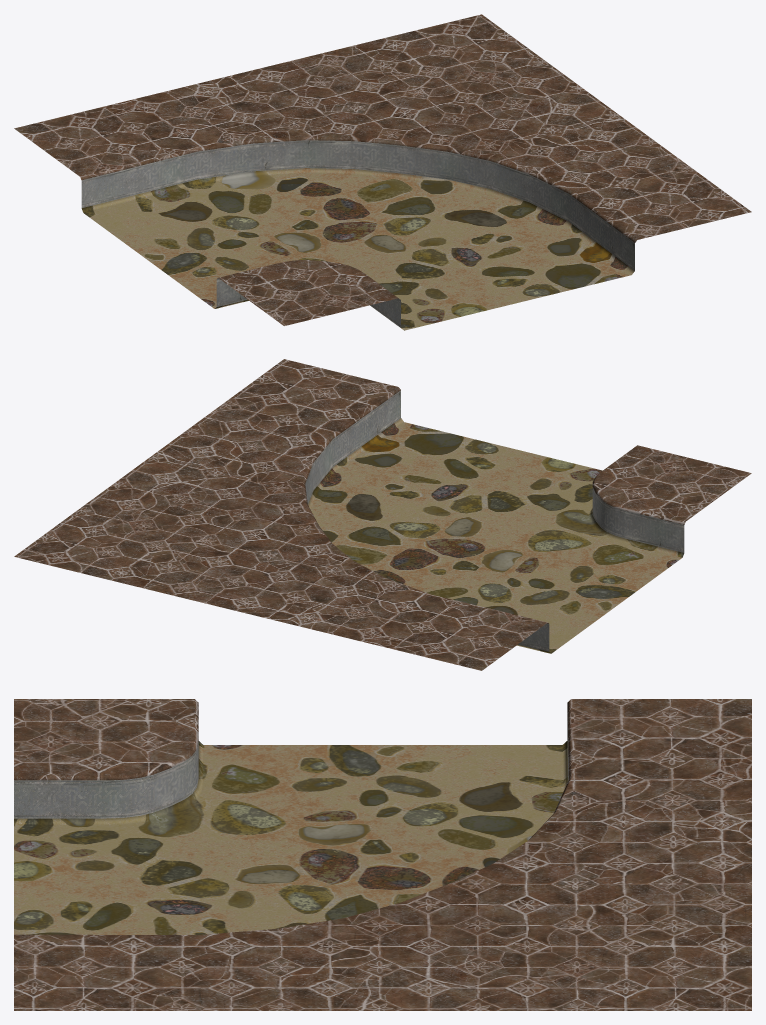
The model's file is FBX_Floor_Sunk_Corner.fbx.
3 renders of one model, top to bottom at view 1: azimuth 30°, elevation 25°; view 2: azimuth 150°, elevation 25°; view 3: azimuth 270°, elevation 25°, orthographic. The views are drawn at different scales.
Visible parts, largest first — view 1: Floor_Sunk_Corner; view 2: Floor_Sunk_Corner; view 3: Floor_Sunk_Corner.
Part boxes in pixels (<box>): Floor_Sunk_Corner: <box>14,14,751,330</box>; Floor_Sunk_Corner: <box>14,359,751,670</box>; Floor_Sunk_Corner: <box>14,699,751,1010</box>.
Bounding box in the file's own units: 1000 × 68.92 × 1000.
3 materials, 3 textured.
